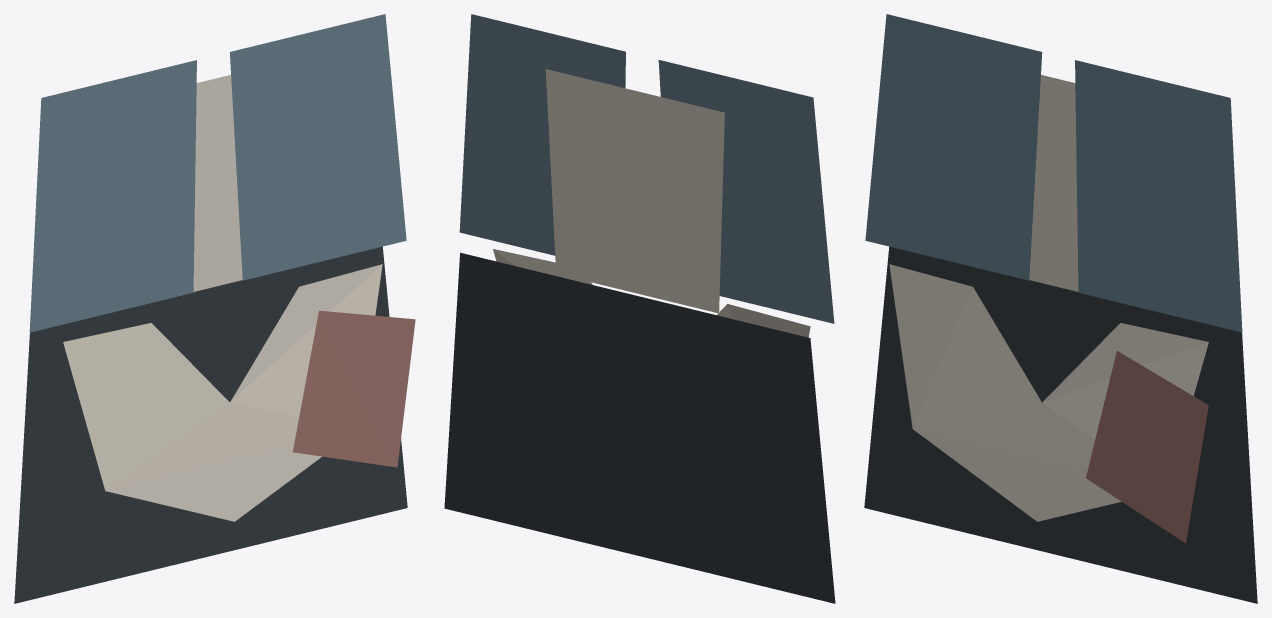
File: arc-tabard-prototype.obj
3 views of the same model, side by side, from view 1: azimuth 30°, elevation 25°; view 2: azimuth 150°, elevation 25°; view 3: azimuth 330°, elevation 25° (orthographic).
Visible parts, largest first — view 1: skirt_front, arc_frame_front, jacket_front_L, jacket_front_R, overlap_leaf_R, inner_front; view 2: skirt_front, inner_front, jacket_front_L, jacket_front_R, arc_frame_front; view 3: skirt_front, jacket_front_R, jacket_front_L, arc_frame_front, overlap_leaf_R, inner_front.
Part boxes in pixels (bbox=[...]): skirt_front: bbox=[14, 246, 407, 603]; arc_frame_front: bbox=[63, 264, 382, 521]; jacket_front_L: bbox=[29, 60, 196, 332]; jacket_front_R: bbox=[230, 14, 406, 280]; overlap_leaf_R: bbox=[293, 310, 415, 467]; inner_front: bbox=[193, 75, 242, 291]; skirt_front: bbox=[444, 252, 835, 603]; inner_front: bbox=[545, 69, 724, 313]; jacket_front_L: bbox=[658, 60, 834, 323]; jacket_front_R: bbox=[459, 14, 625, 255]; arc_frame_front: bbox=[493, 249, 810, 337]; skirt_front: bbox=[864, 246, 1257, 603]; jacket_front_R: bbox=[1075, 60, 1242, 332]; jacket_front_L: bbox=[865, 14, 1042, 280]; arc_frame_front: bbox=[889, 264, 1208, 521]; overlap_leaf_R: bbox=[1086, 351, 1208, 543]; inner_front: bbox=[1029, 75, 1078, 291].
Size of the model in its own units: 0.96 by 1.17 by 0.15.
